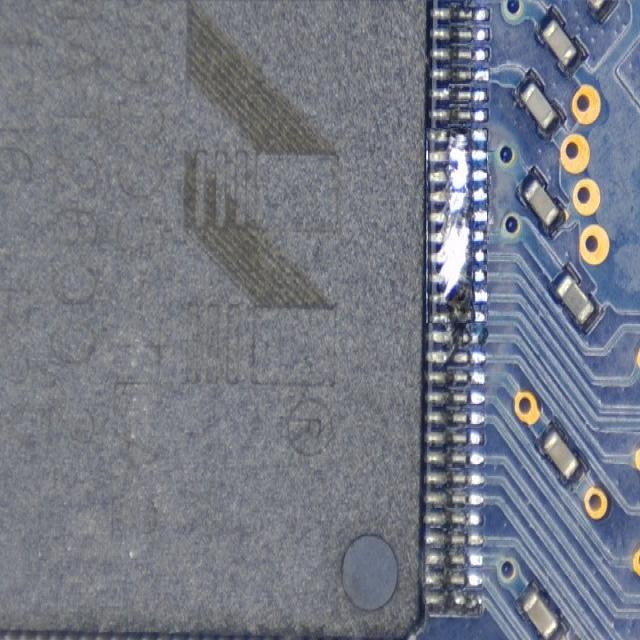Short_circuit: (427, 128, 487, 323)
